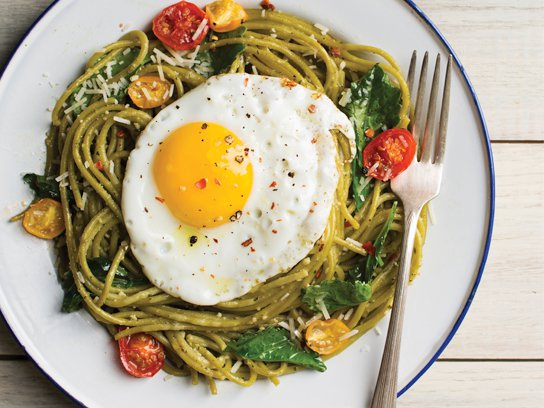fried egg: (128, 79, 339, 307)
